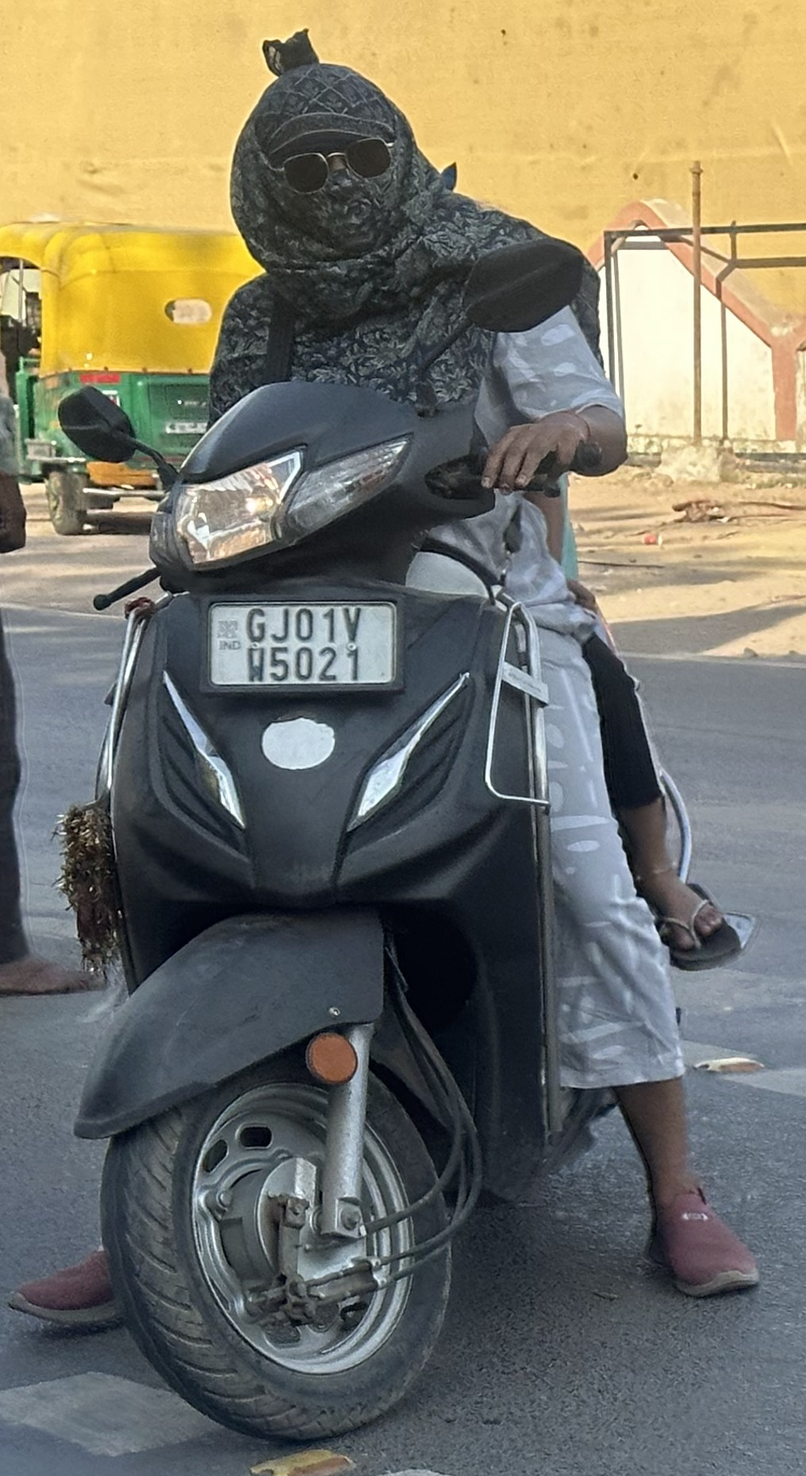BikeWithRider: (10, 33, 770, 1451)
NoHelmet: (217, 48, 444, 284)
